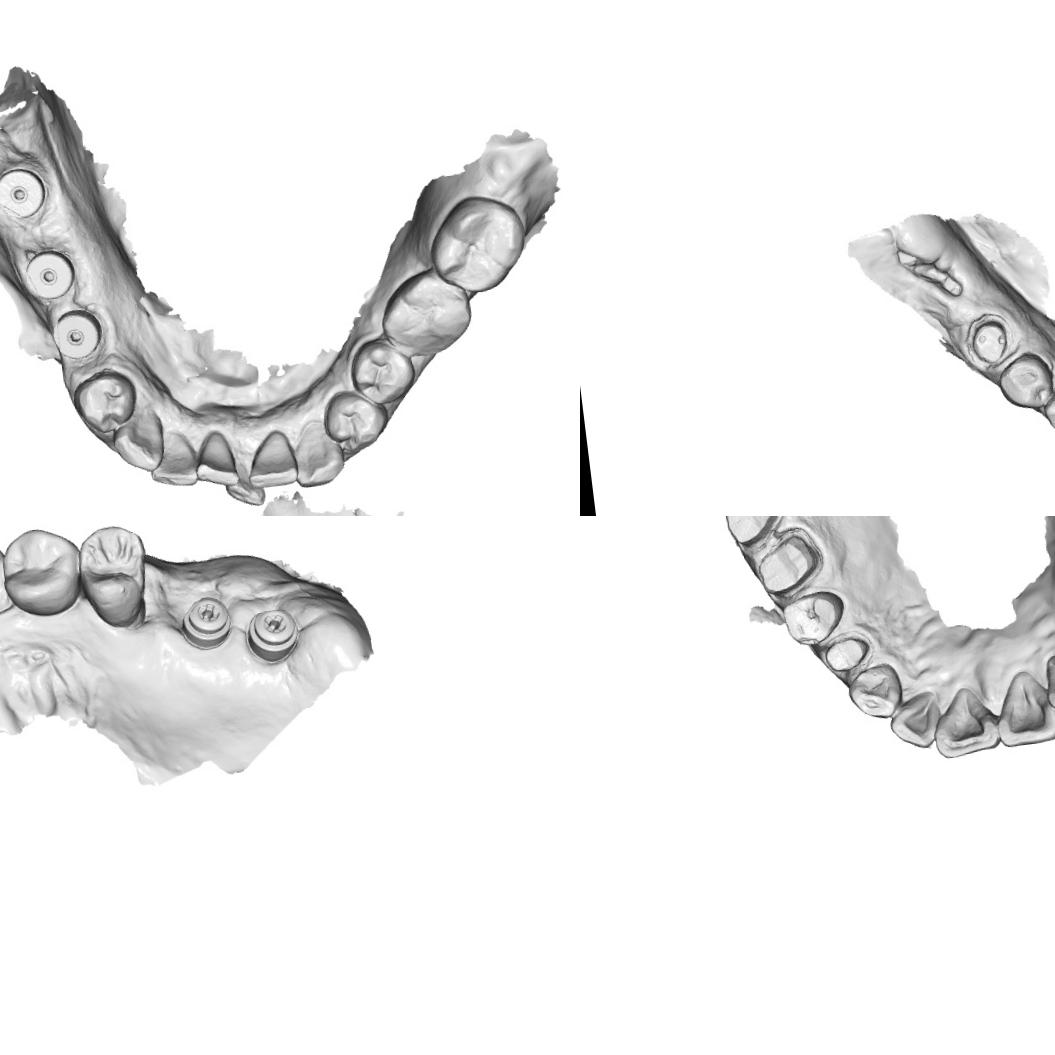canine: (106, 405, 170, 478), (844, 660, 906, 724), (291, 418, 345, 491)
crown: (751, 528, 826, 599), (814, 628, 874, 678), (963, 310, 1012, 368), (717, 516, 792, 549)
implant: (19, 246, 79, 303), (48, 305, 106, 363), (0, 165, 48, 222)
implant_plus: (242, 602, 304, 664), (177, 594, 235, 652)
incisor: (926, 682, 1006, 762), (987, 664, 1055, 750), (884, 688, 946, 754), (250, 432, 302, 490), (220, 454, 268, 511), (150, 436, 197, 492), (193, 431, 239, 488), (1039, 648, 1055, 713), (1039, 376, 1055, 439)
molar: (422, 191, 529, 299), (371, 263, 478, 363)
premolar: (74, 520, 154, 631), (0, 522, 85, 620), (342, 334, 418, 409), (68, 367, 140, 444), (777, 586, 850, 652), (320, 386, 389, 454), (995, 349, 1055, 411)
